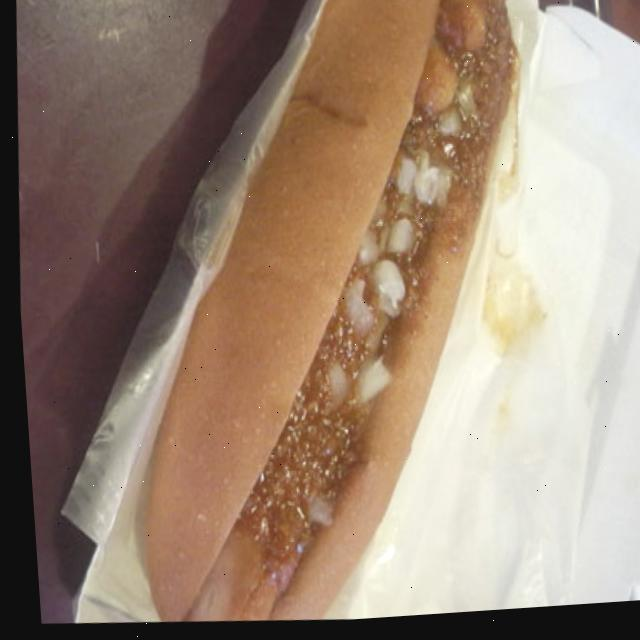汉堡快餐: (77, 0, 580, 636)
